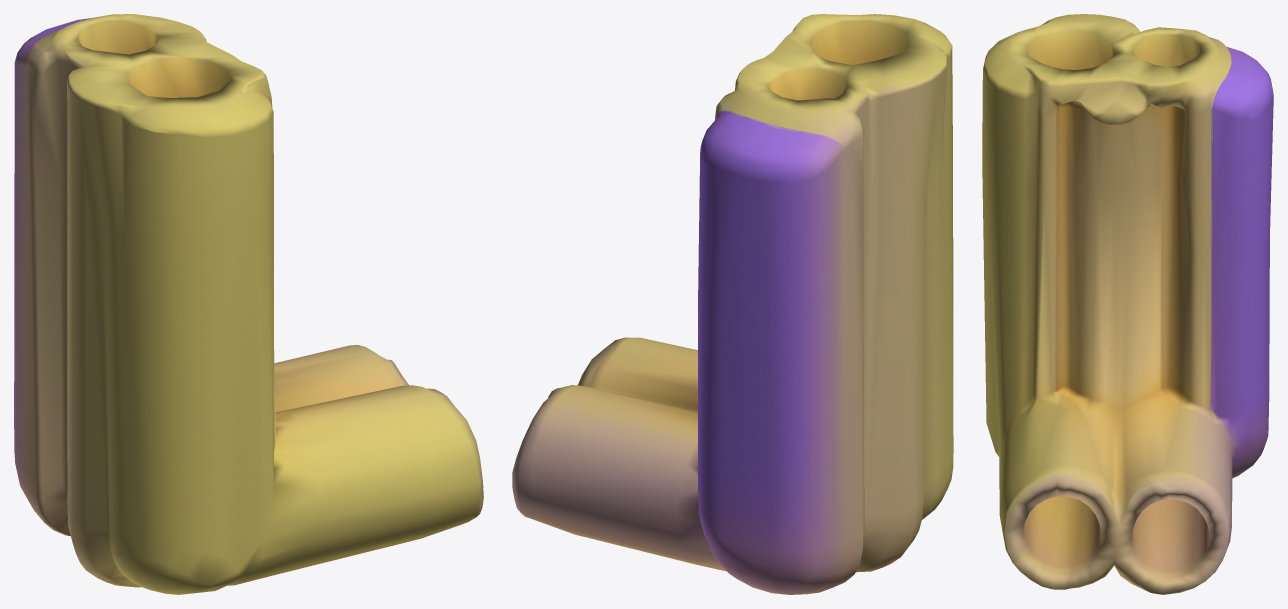
The model's file is roll_foam.glb.
The picture shows the model from 3 angles, left to right: view 1: azimuth 30°, elevation 25°; view 2: azimuth 150°, elevation 25°; view 3: azimuth 270°, elevation 25°; orthographic projection. The views are drawn at different scales.
Parts seen in each view (by area): view 1: tripo_node_1178b00e-fa1e-4513-a706-d036e8c9af0f; view 2: tripo_node_1178b00e-fa1e-4513-a706-d036e8c9af0f; view 3: tripo_node_1178b00e-fa1e-4513-a706-d036e8c9af0f.
Part boxes in pixels (x1,y1,x2,y2): tripo_node_1178b00e-fa1e-4513-a706-d036e8c9af0f: (14,14,483,594); tripo_node_1178b00e-fa1e-4513-a706-d036e8c9af0f: (512,14,953,594); tripo_node_1178b00e-fa1e-4513-a706-d036e8c9af0f: (982,14,1273,594).
Size of the model in its own units: 0.7339 by 0.9995 by 0.5972.
Materials: 1 (1 with a texture image).
